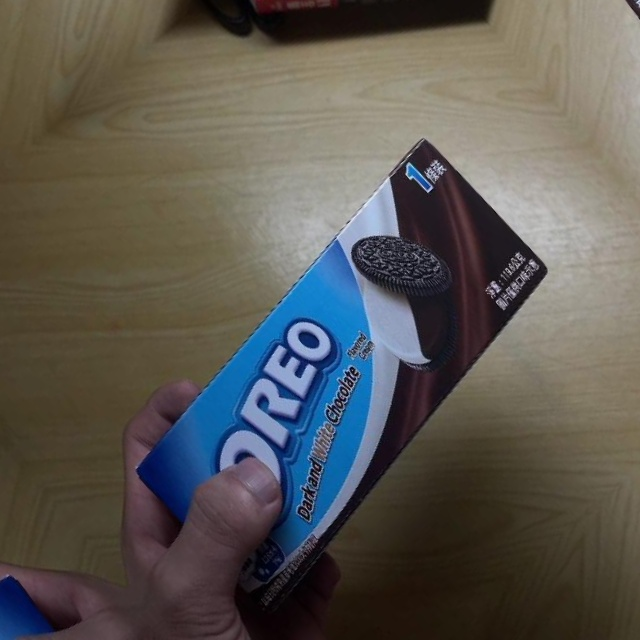Oreo: (86, 127, 602, 620)
